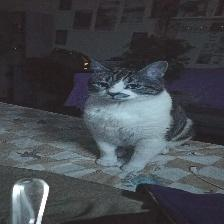kedo: (84, 56, 194, 173)
